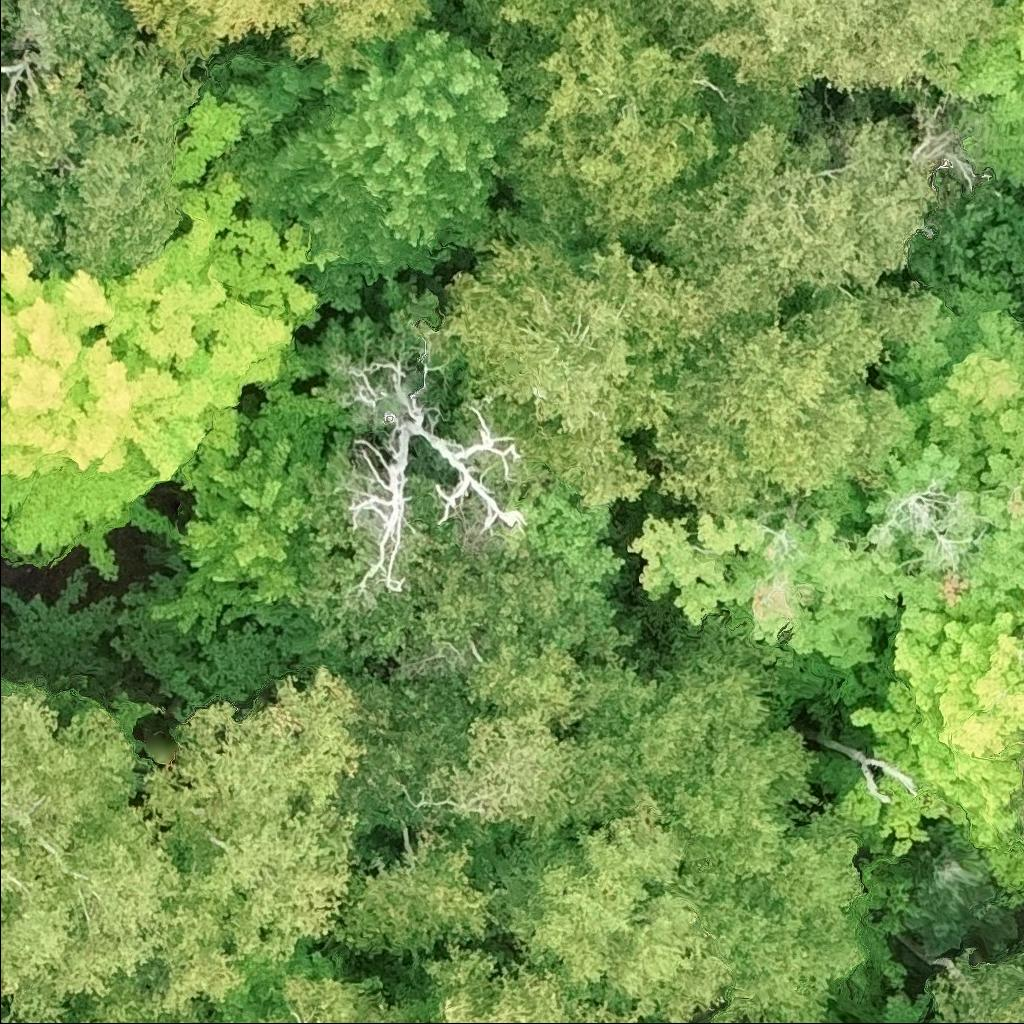crown: (625, 264, 1023, 712), (0, 87, 324, 583), (494, 619, 873, 1023), (339, 546, 661, 885), (201, 12, 510, 313), (425, 211, 722, 509), (0, 683, 251, 1023), (501, 0, 807, 244), (646, 280, 949, 522), (624, 99, 939, 322), (145, 662, 373, 966), (0, 0, 203, 277), (150, 381, 343, 645), (848, 587, 1023, 861), (645, 0, 1018, 105), (218, 940, 640, 1023), (122, 0, 439, 87), (331, 827, 503, 961), (896, 828, 1012, 960), (951, 0, 1023, 187), (59, 963, 220, 1023), (461, 0, 577, 69), (934, 951, 1023, 1023), (1014, 722, 1023, 859), (64, 1020, 72, 1023)
